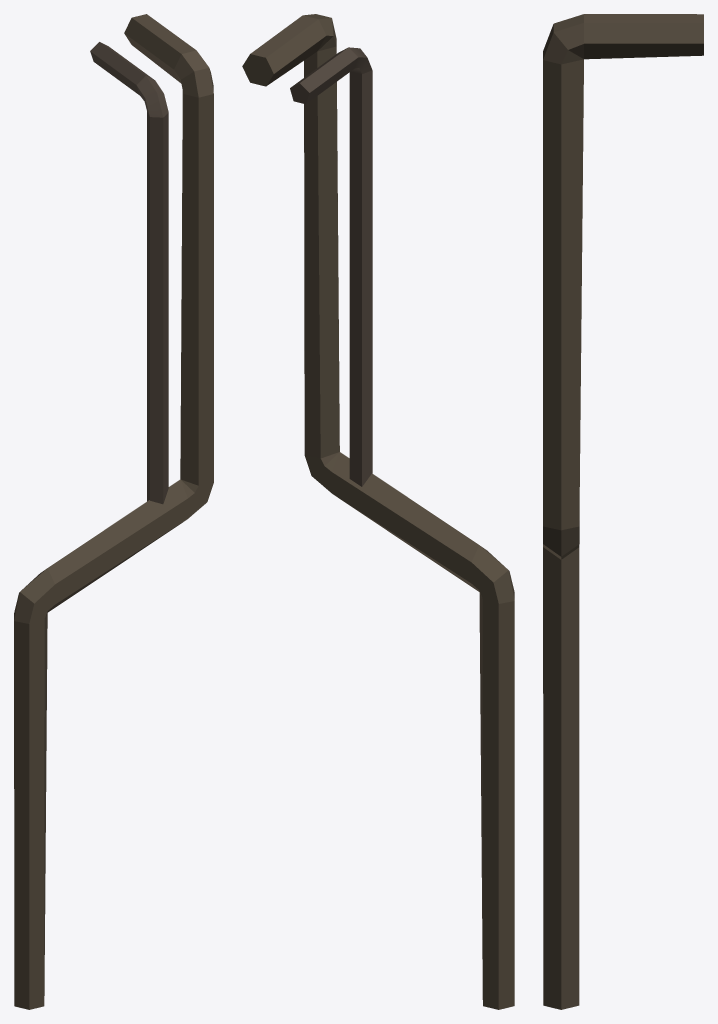
File: SM_Prop_Bathroom_Pipes_01.glb
3 renders of one model, left to right at view 1: azimuth 30°, elevation 25°; view 2: azimuth 150°, elevation 25°; view 3: azimuth 270°, elevation 25°, orthographic. The views are drawn at different scales.
Visible parts, largest first — view 1: SM_Prop_Bathroom_Pipes_01; view 2: SM_Prop_Bathroom_Pipes_01; view 3: SM_Prop_Bathroom_Pipes_01.
Boxes of the visible parts, left/top/right/bottom form: SM_Prop_Bathroom_Pipes_01: left=14, top=14, right=213, bottom=1009; SM_Prop_Bathroom_Pipes_01: left=242, top=14, right=514, bottom=1009; SM_Prop_Bathroom_Pipes_01: left=543, top=14, right=703, bottom=1009.
Size of the model in its own units: 0.4779 by 2.06 by 0.278.
Materials: 1 (1 with a texture image).
